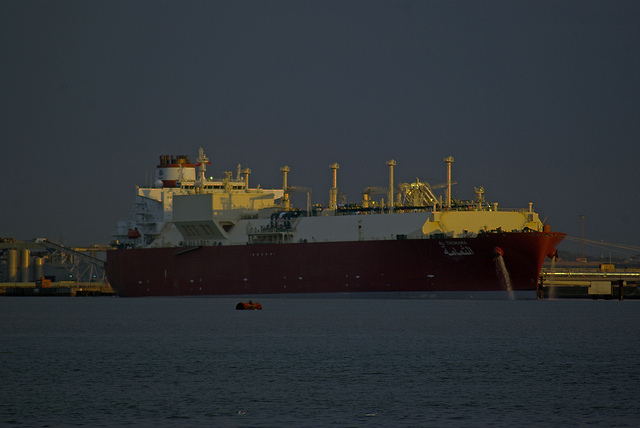LNG_ship: (104, 149, 560, 290)
